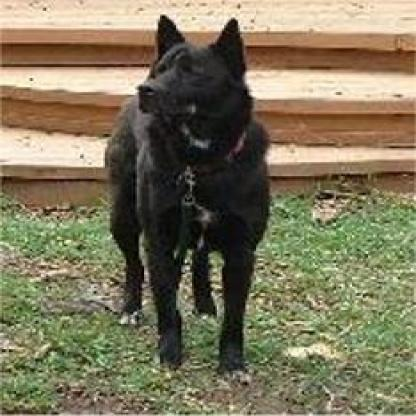schipperke: (86, 11, 276, 394)
